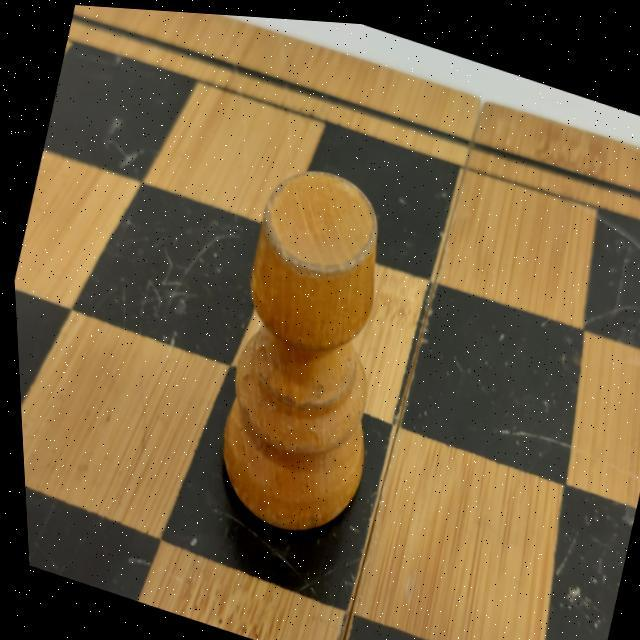white-rook: (221, 169, 381, 530)
